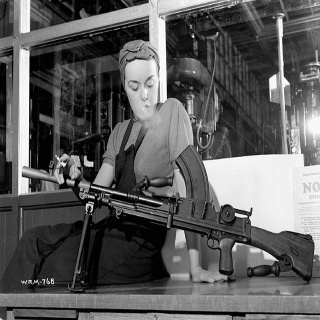rifle: (21, 162, 315, 285)
